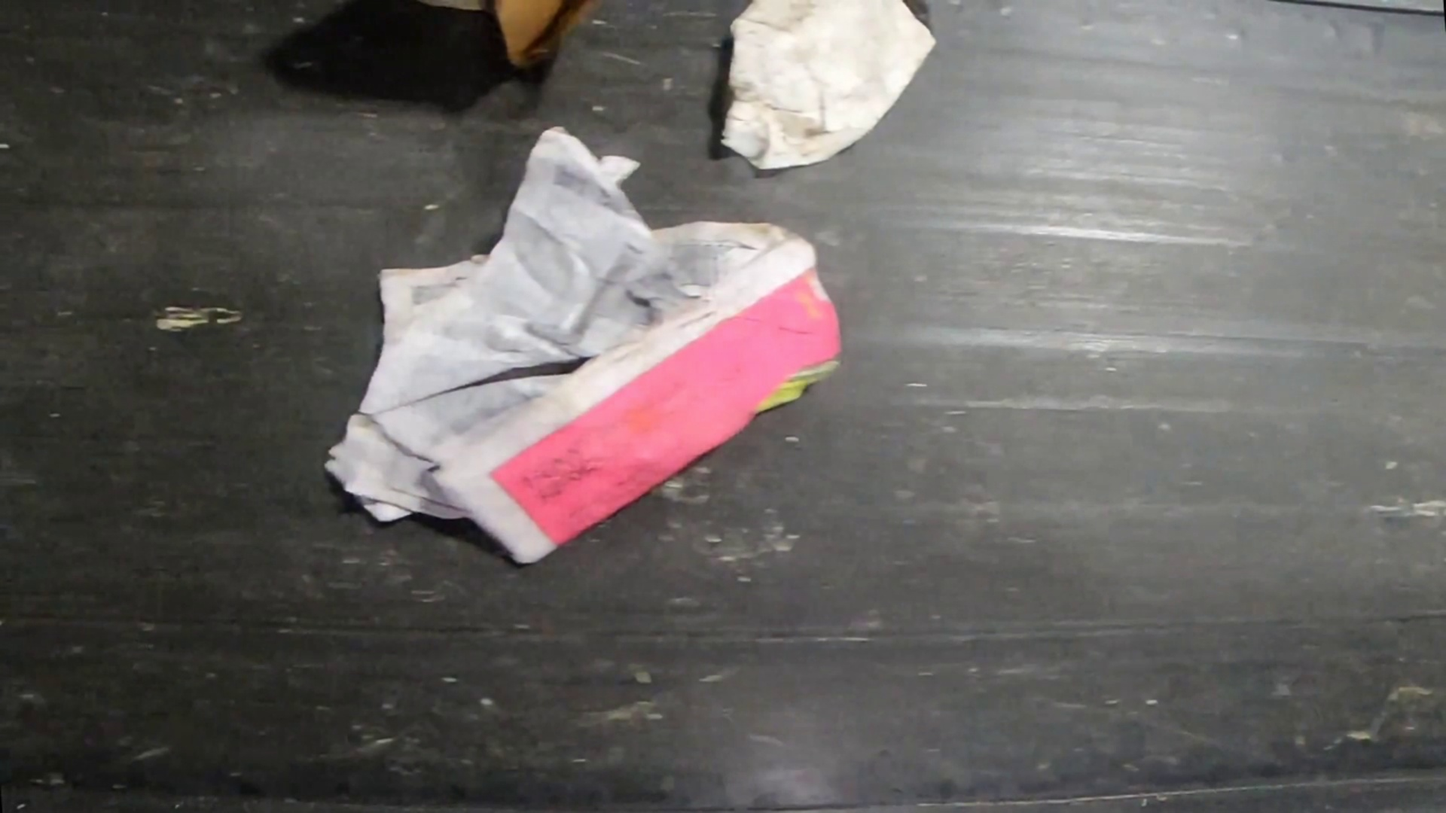cardboard: (410, 0, 607, 68)
